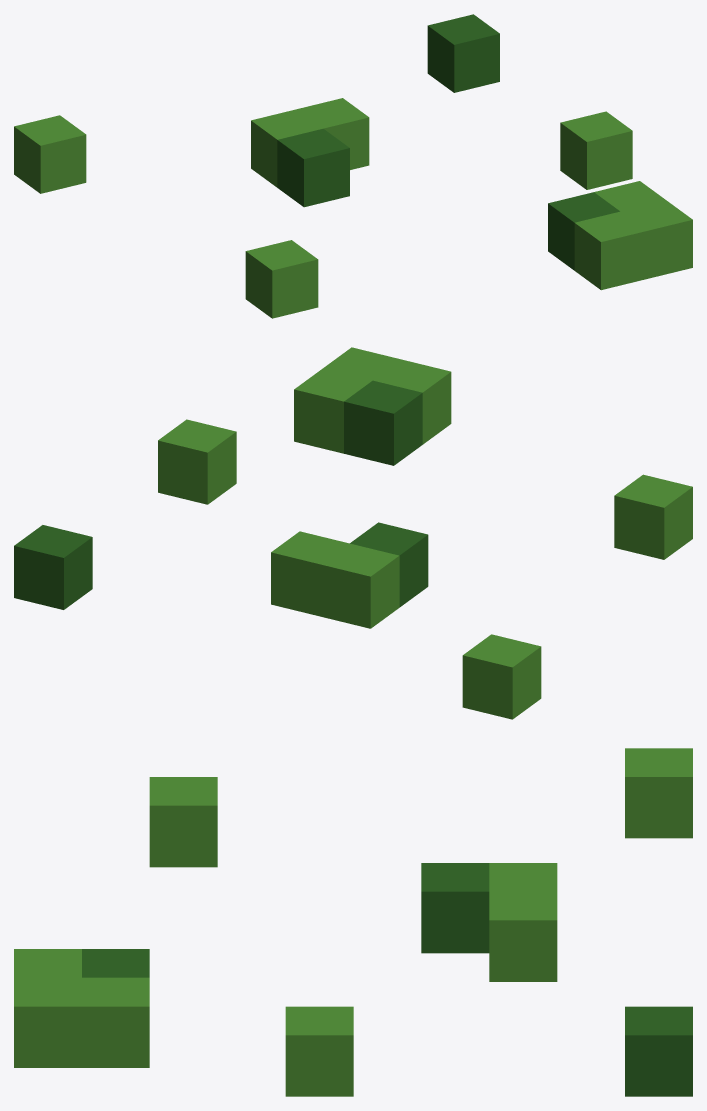
File: beach_grass.obj
3 views of the same model, one above another, from view 1: azimuth 30°, elevation 25°; view 2: azimuth 150°, elevation 25°; view 3: azimuth 270°, elevation 25° (orthographic). The views are drawn at different scales.
Visible parts, largest first — view 1: SmallGrass_B-11; view 2: SmallGrass_B-11; view 3: SmallGrass_B-11.
Part boxes in pixels (x1,y1,x2,y2): SmallGrass_B-11: (14,14,692,318); SmallGrass_B-11: (14,347,692,719); SmallGrass_B-11: (14,748,692,1096).
Bounding box in the file's own units: 0.2 × 0.02 × 0.2.
1 material, 1 textured.
